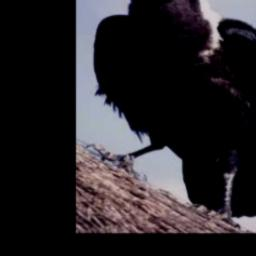Crow: (89, 0, 256, 225)
